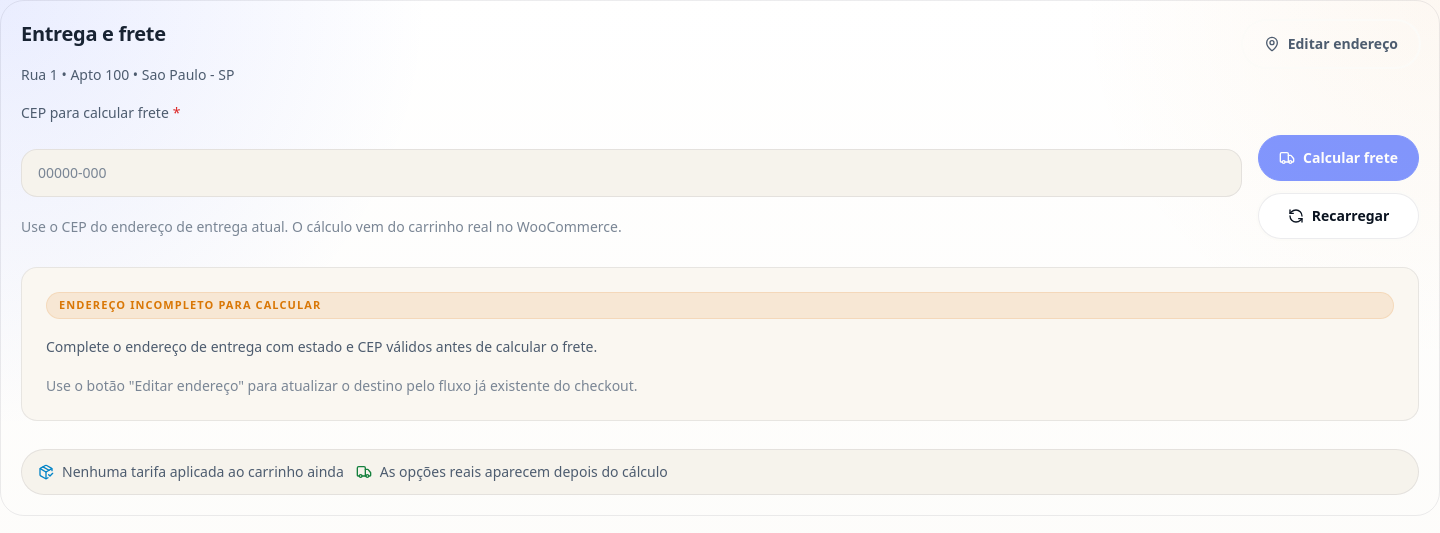
Test: CheckoutShippingSection › shows a friendly error state when shipping calculation fails
The image size is (1440, 533).
Type "01000-000" into the field labelled "CEP para calcular frete*" at (632,173), box top-left (21, 149), bottom-right (1242, 197)
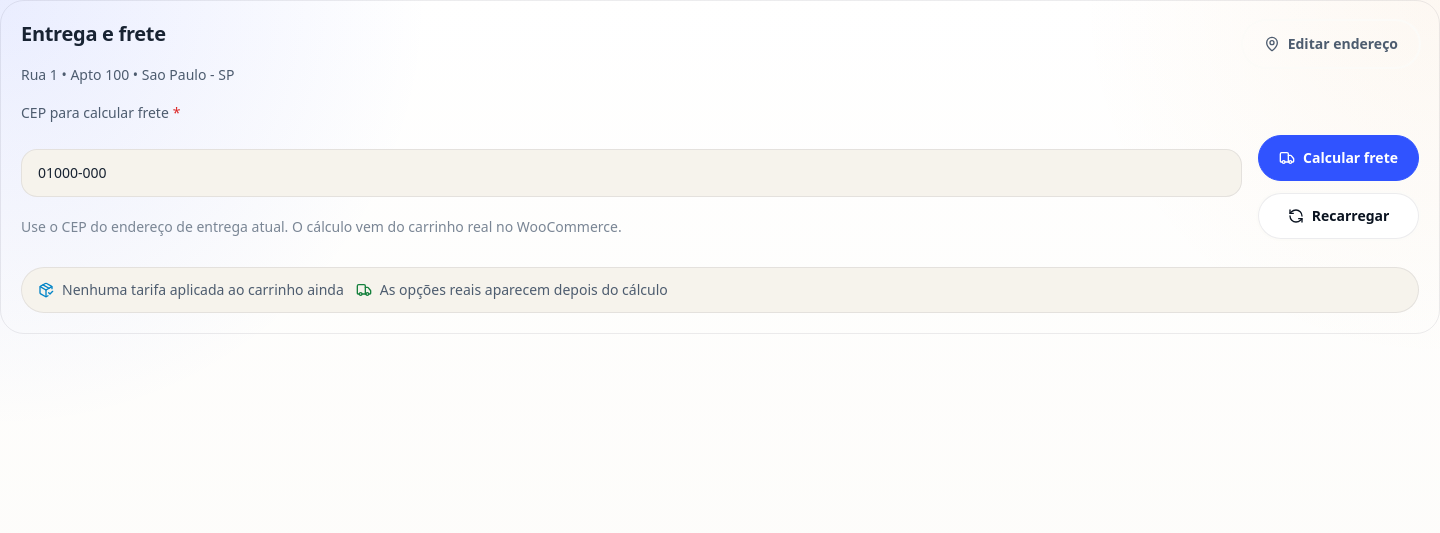
Click the button "Calcular frete" at (1339,158), box top-left (1258, 135), bottom-right (1419, 181)
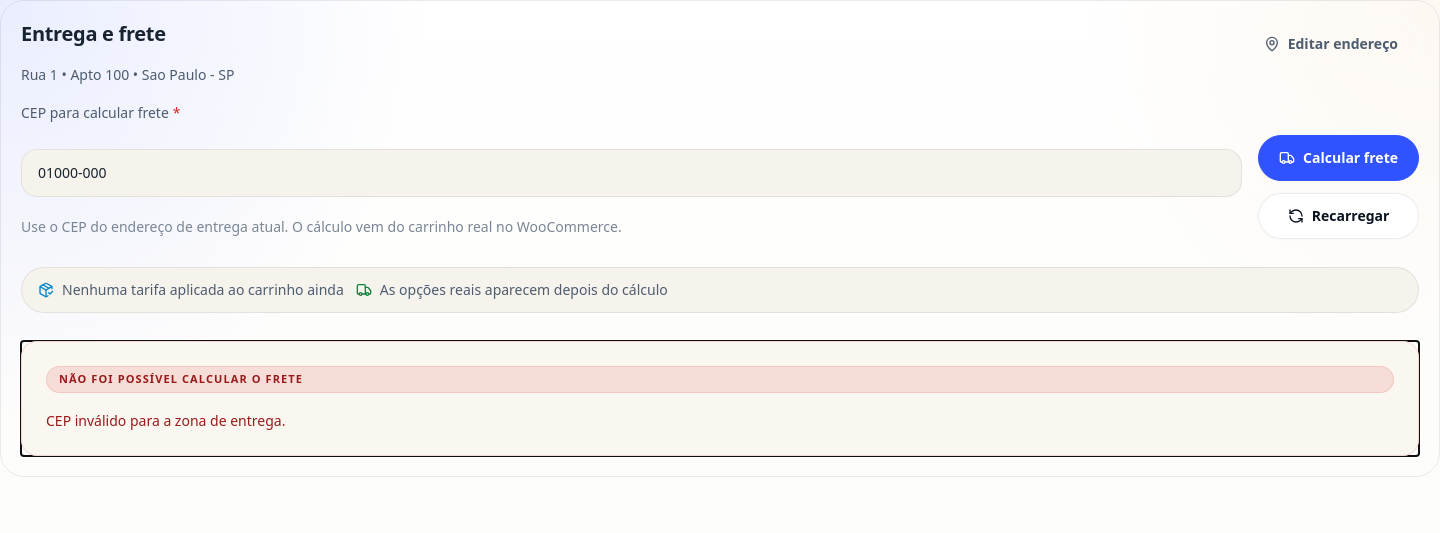
Check: the message "Não foi possível calcular o frete CEP inválido para a zona de entrega." is shown, box top-left (21, 341), bottom-right (1419, 456)
Check: the text "CEP inválido para a zona de entrega." is shown, box top-left (46, 410), bottom-right (285, 430)
